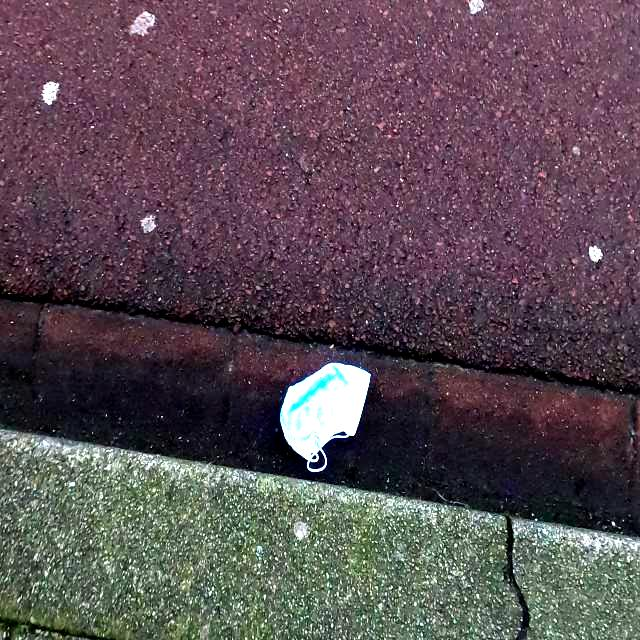Mask: (276, 359, 372, 475)
